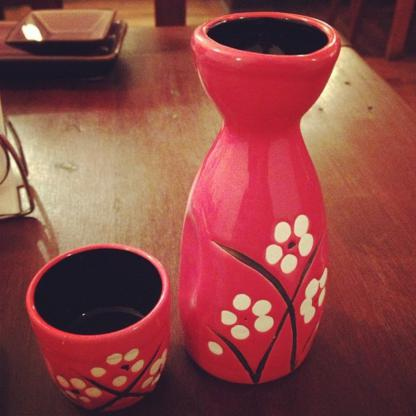vase: (176, 10, 342, 386)
